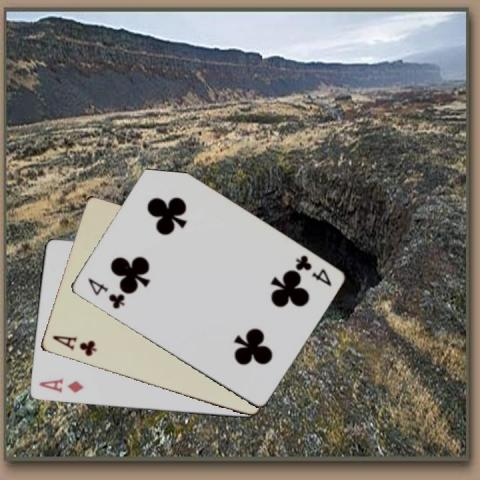4c: (84, 275, 126, 311), (292, 252, 333, 288)
Ac: (50, 332, 98, 358)
Ad: (35, 376, 85, 394)
